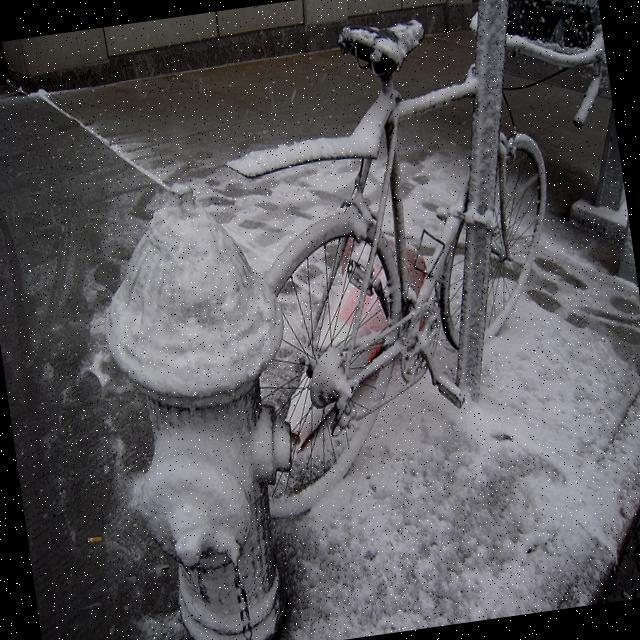fire_hydrant: (84, 172, 327, 640)
